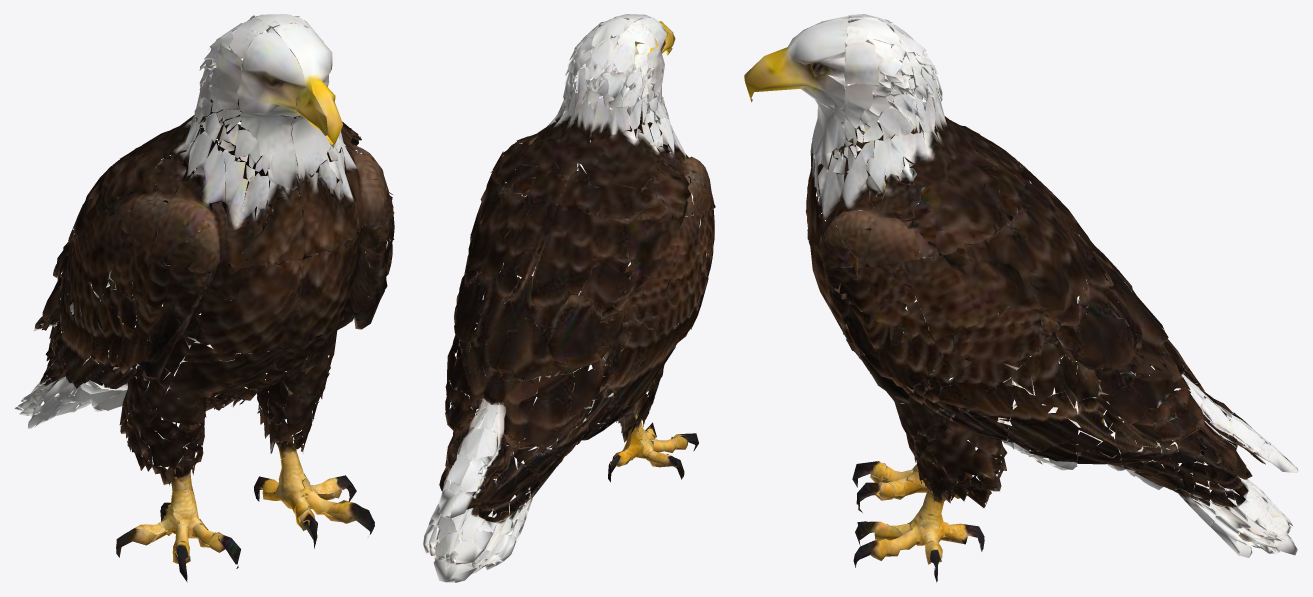
File: Eagle.glb
3 views of the same model, side by side, from view 1: azimuth 30°, elevation 25°; view 2: azimuth 150°, elevation 25°; view 3: azimuth 270°, elevation 25° (orthographic). The views are drawn at different scales.
Parts seen in each view (by area): view 1: Eagle; view 2: Eagle; view 3: Eagle.
Part boxes in pixels (left/top/right/bottom): Eagle: left=14, top=14, right=394, bottom=582; Eagle: left=423, top=14, right=715, bottom=582; Eagle: left=744, top=14, right=1298, bottom=582.
Bounding box in the file's own units: 0.2697 × 0.5278 × 0.5.
1 material, 1 textured.
